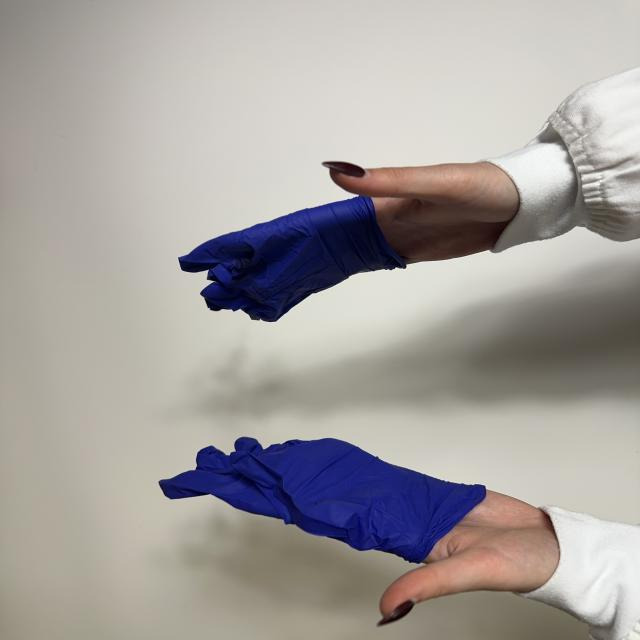glove_partial: (160, 438, 559, 625), (180, 162, 520, 321)
